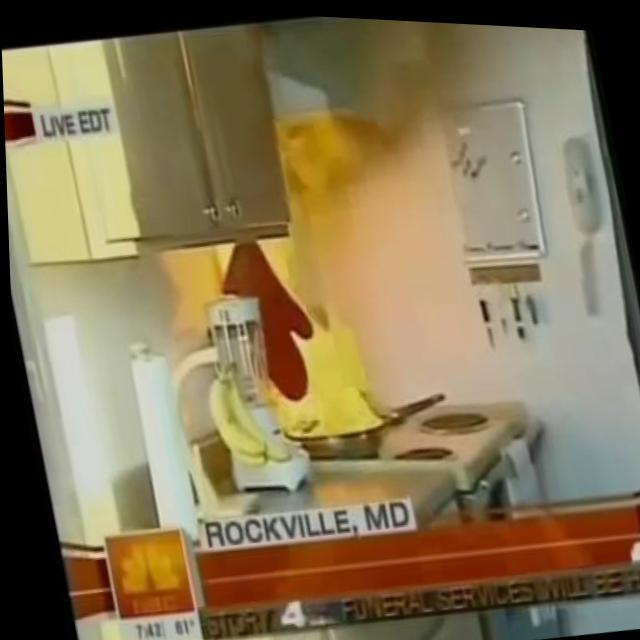fire: (193, 95, 408, 451)
